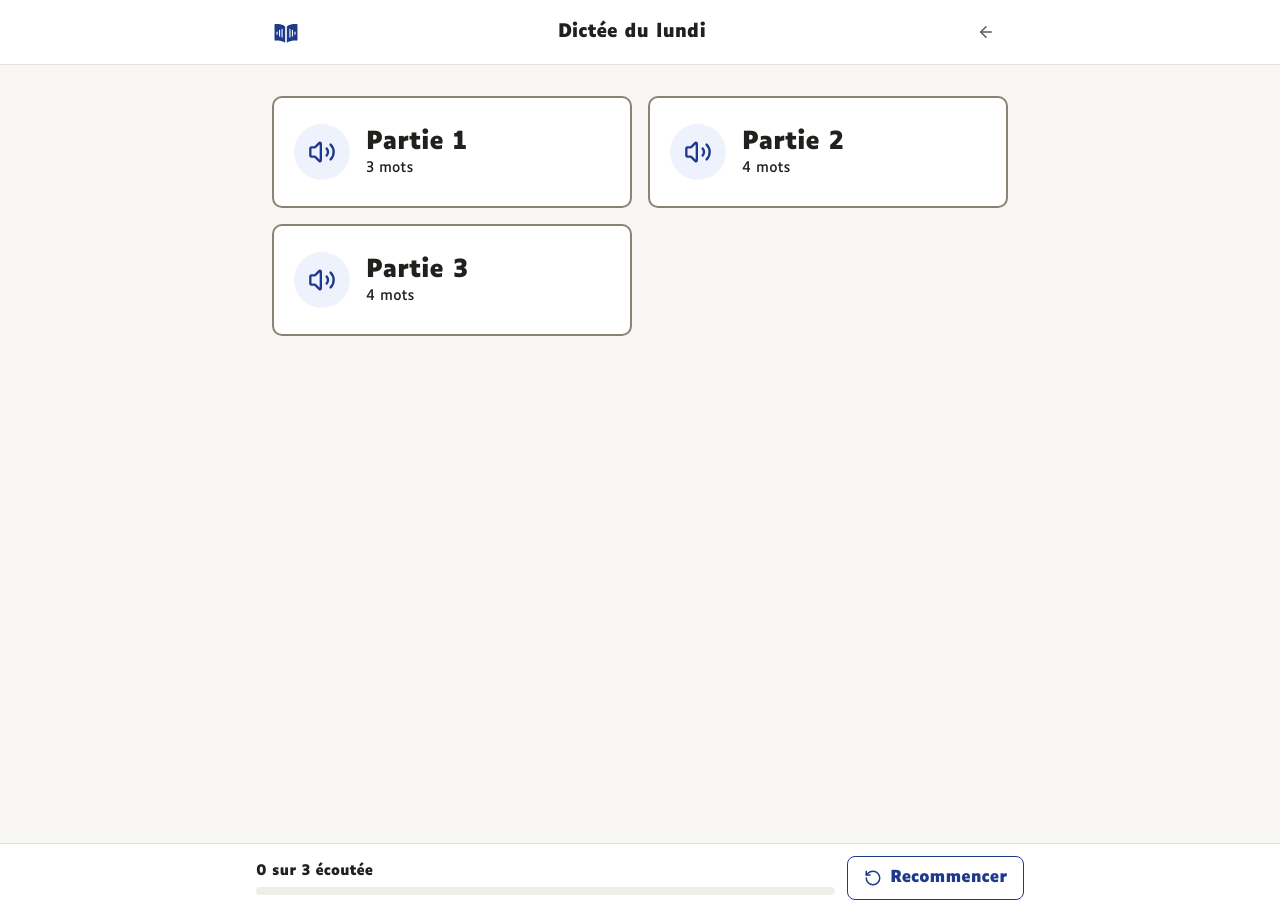
Test: Mode élève › marks a part as listened and remembers it
Click the button with aria-label "Écouter la partie 2": (828, 152) [648,96,1008,208]
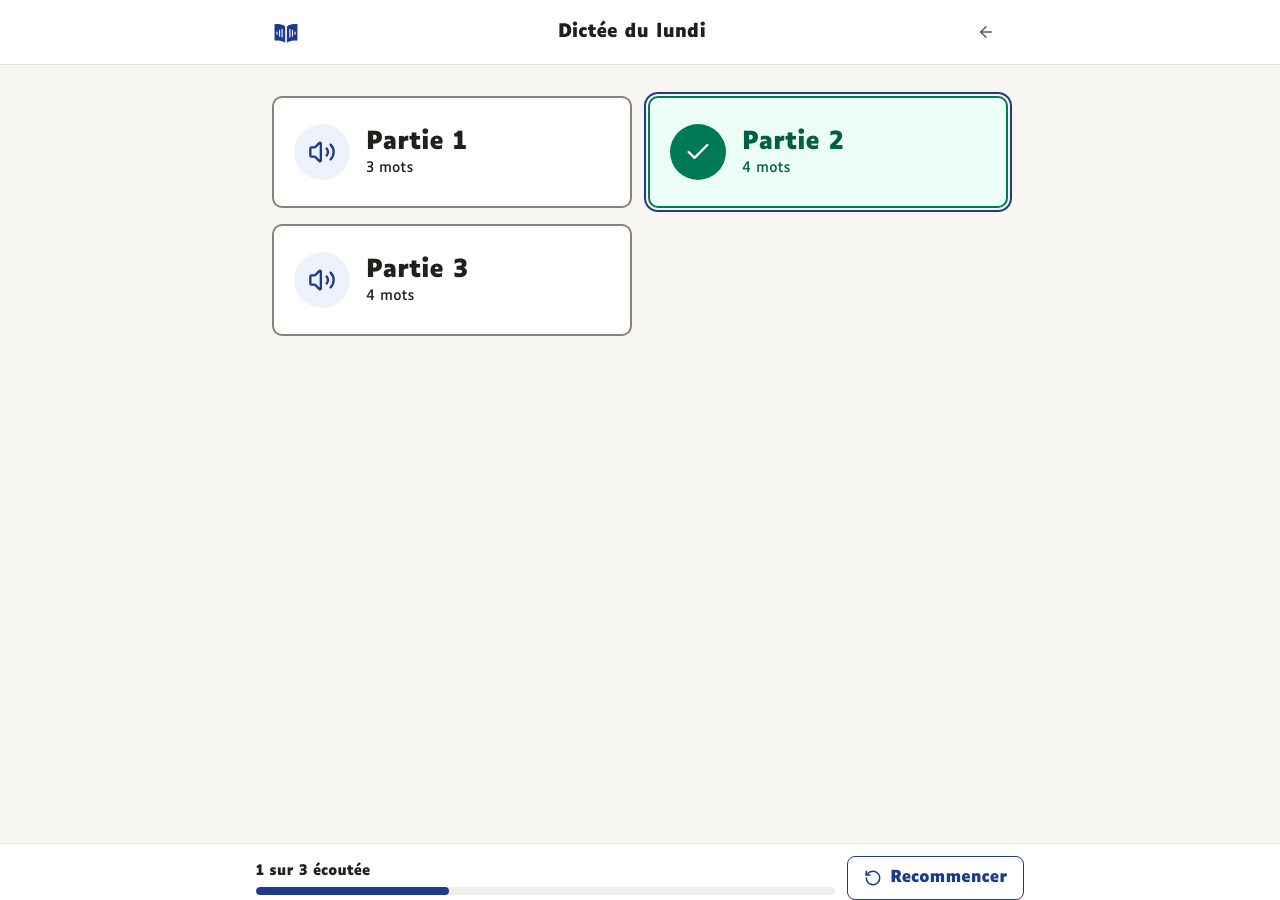
Expected: the button with aria-label "Écouter la partie 2, déjà écoutée" is shown, [648,96,1008,208]
